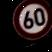Speed Limit -60-: (7, 0, 52, 46)
